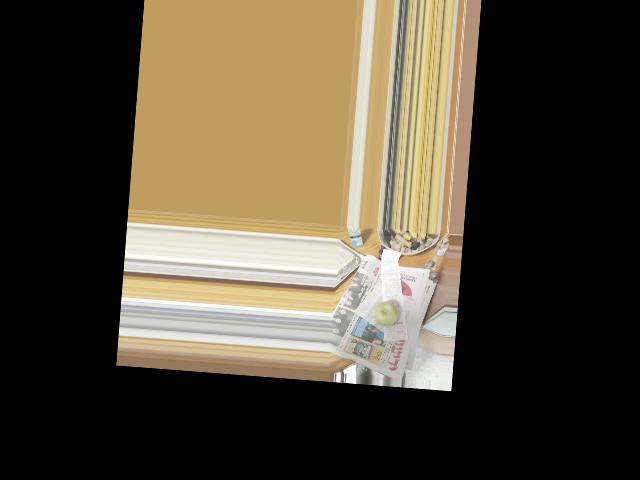apple: (371, 299, 400, 331)
